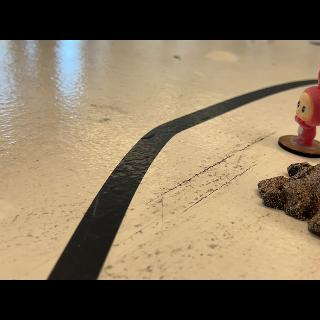teletubby: (294, 70, 320, 146)
